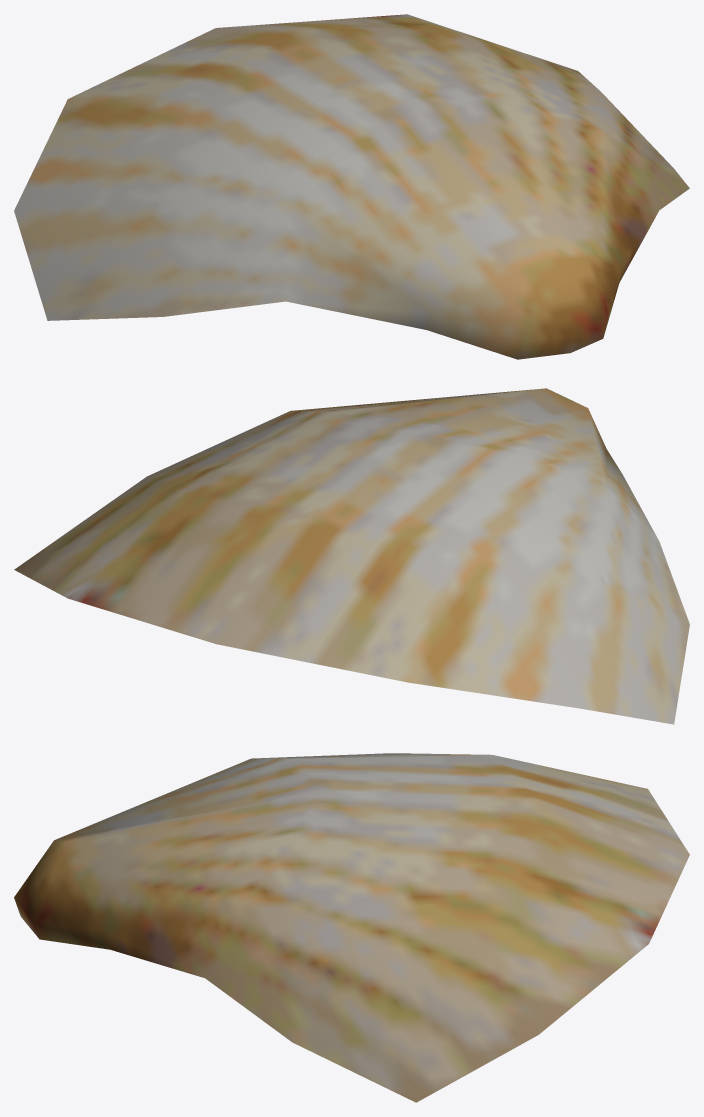
The model's file is 5010_Item_beike_06.FBX.
3 renders of one model, top to bottom at view 1: azimuth 30°, elevation 25°; view 2: azimuth 150°, elevation 25°; view 3: azimuth 270°, elevation 25°, orthographic. The views are drawn at different scales.
Parts seen in each view (by area): view 1: 5010_Item_beike_06; view 2: 5010_Item_beike_06; view 3: 5010_Item_beike_06.
Part boxes in pixels (bbox=[...]): 5010_Item_beike_06: bbox=[14, 14, 689, 359]; 5010_Item_beike_06: bbox=[14, 388, 689, 724]; 5010_Item_beike_06: bbox=[14, 753, 689, 1102].
Bounding box in the file's own units: 53.35 × 14.47 × 52.87.
